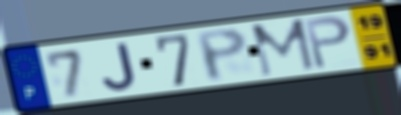7: (42, 47, 86, 99), (154, 33, 191, 88)
J: (101, 41, 140, 93)
M: (249, 17, 318, 79)
P: (194, 26, 251, 84), (302, 13, 353, 71)
